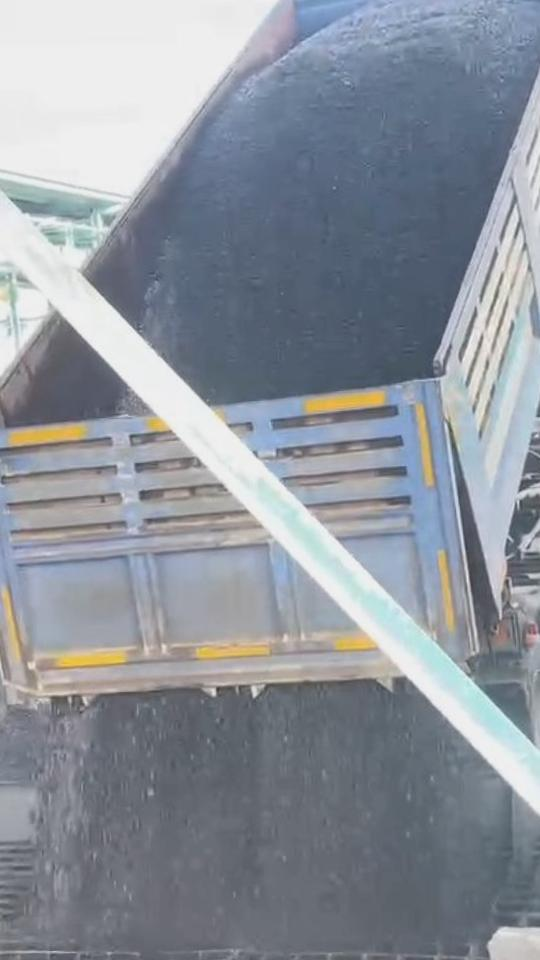gravel: (144, 0, 540, 402), (33, 682, 508, 953), (0, 708, 49, 783)
